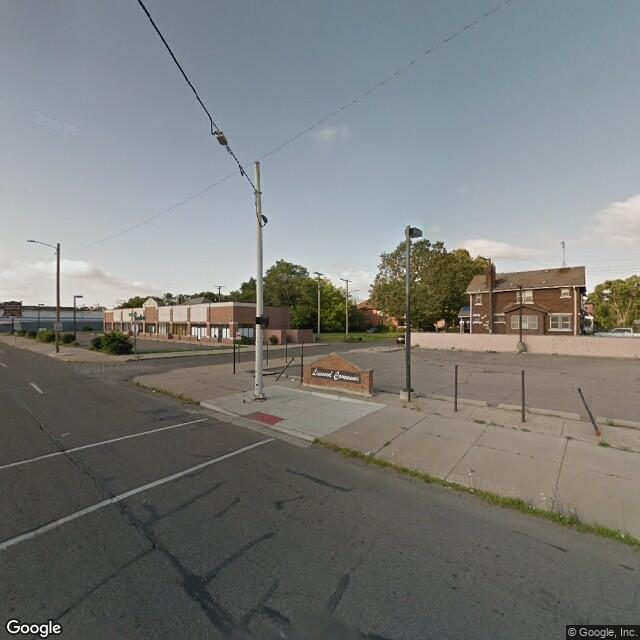litter: (289, 377, 295, 384), (151, 387, 157, 393)
